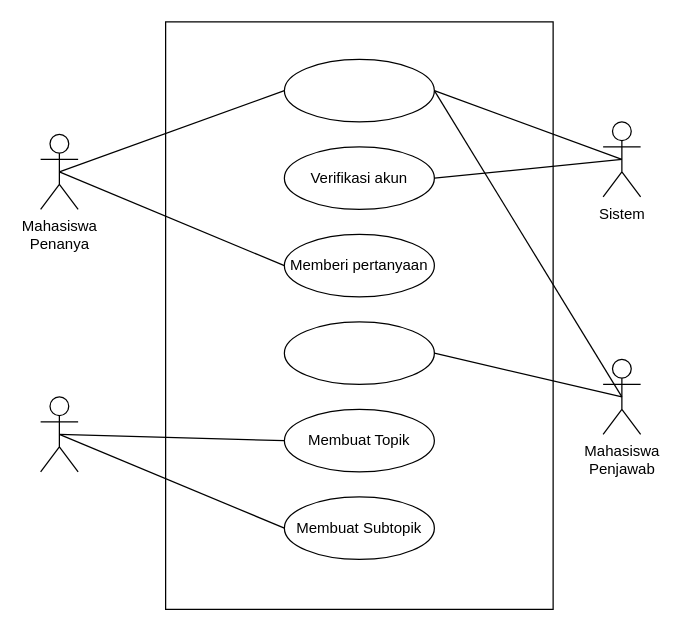
This 680x631 diagram has some shape labels left out. Here are the shapes that lost their labels. From the top down, the centre of each, then its label:
At point 358,90: "Login".
At point 358,352: "Menjawab pertanyaan".
At point 58,434: "Admin".
